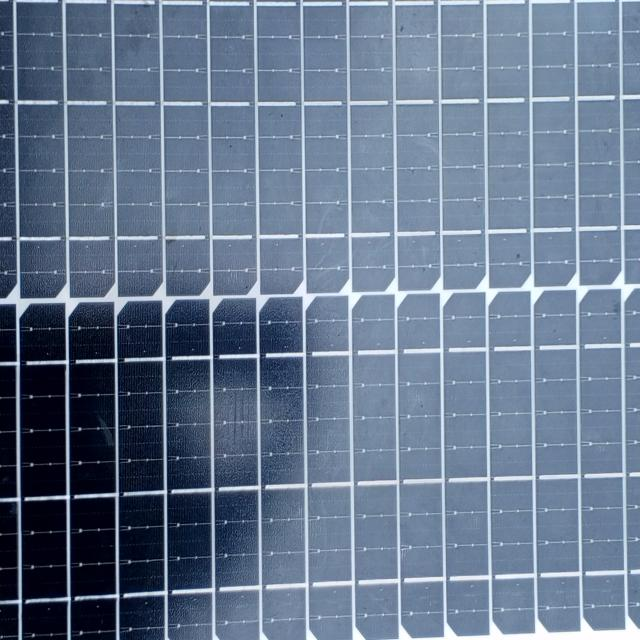Clean: (1, 0, 640, 634)
